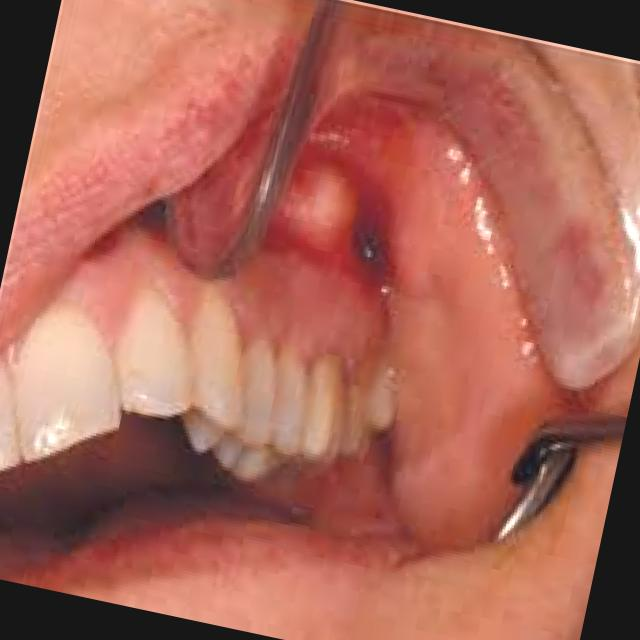abscess: (165, 108, 392, 329)
